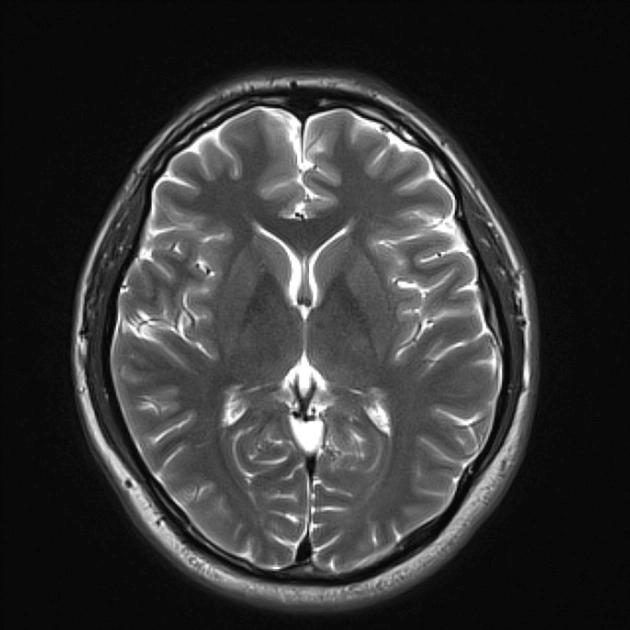Normal_Brain: (4, 6, 630, 630)
